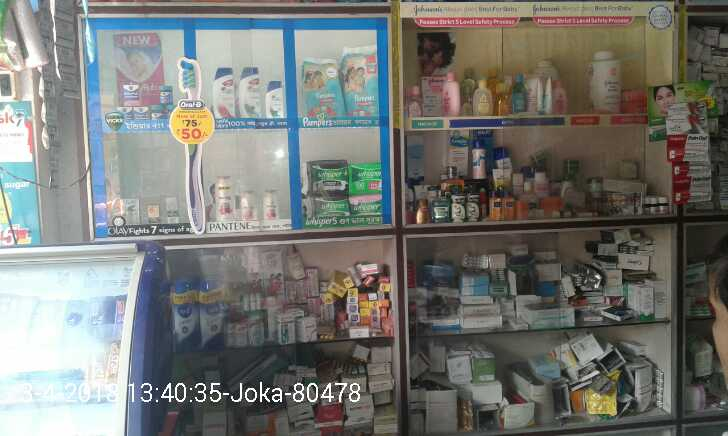vicks: (116, 81, 175, 120)
